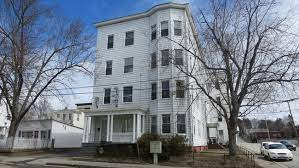Building House: (88, 1, 234, 155), (10, 100, 86, 154)
